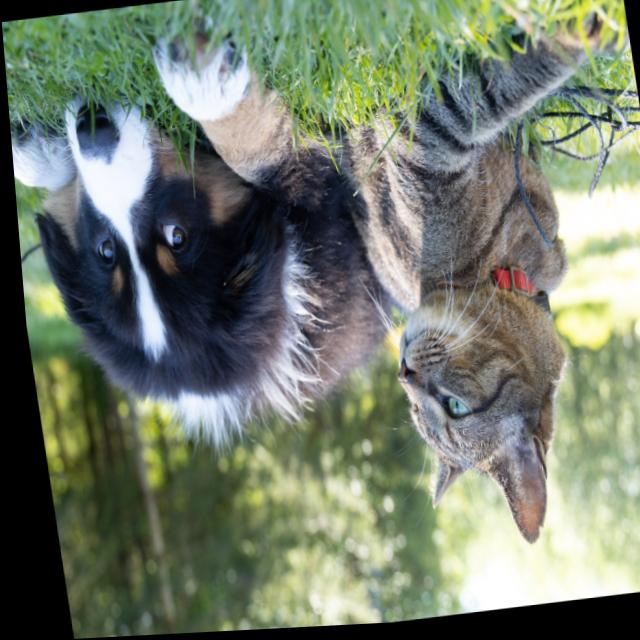Cat: (316, 0, 640, 614)
Dog: (3, 29, 393, 636)
